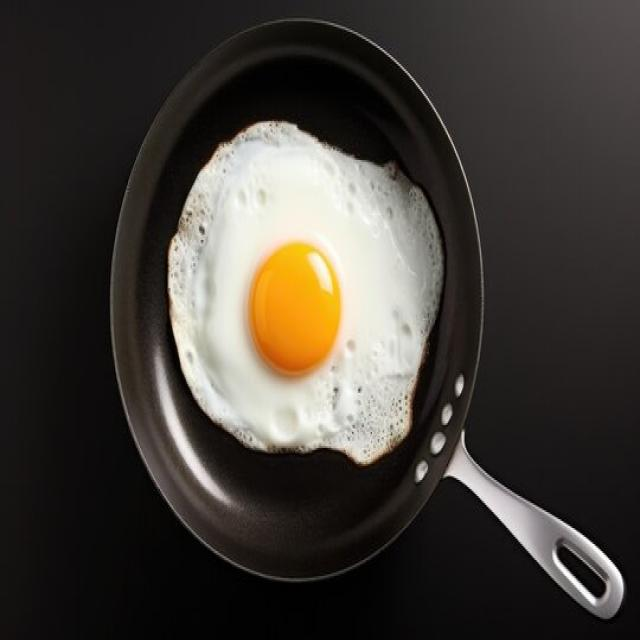Egg: (169, 122, 444, 464)
